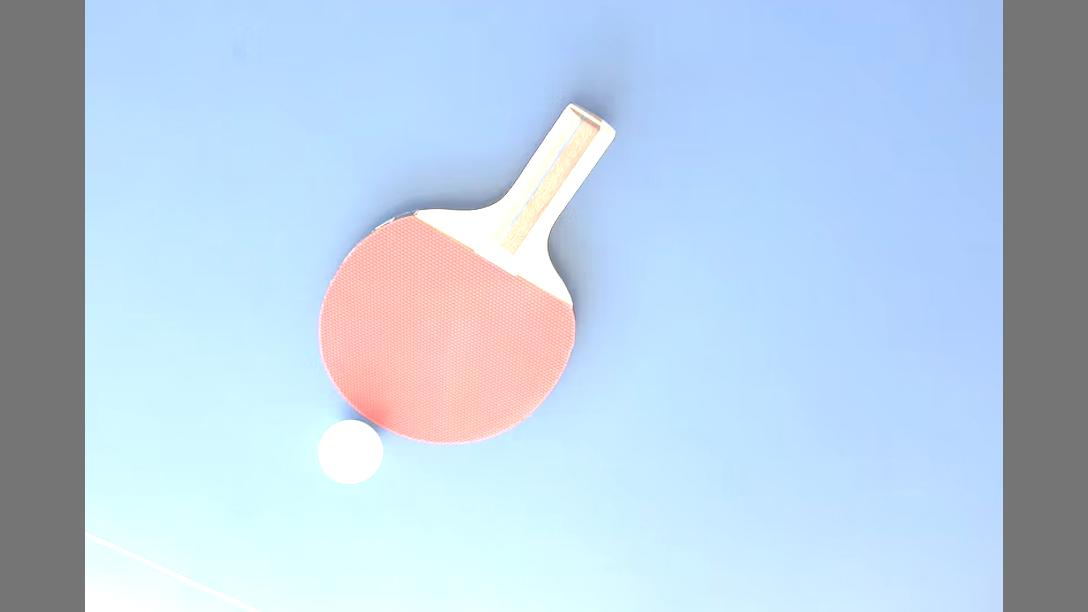Table-Tennis-Ball: (320, 422, 380, 483)
